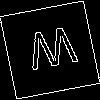W: (25, 25, 81, 80)
